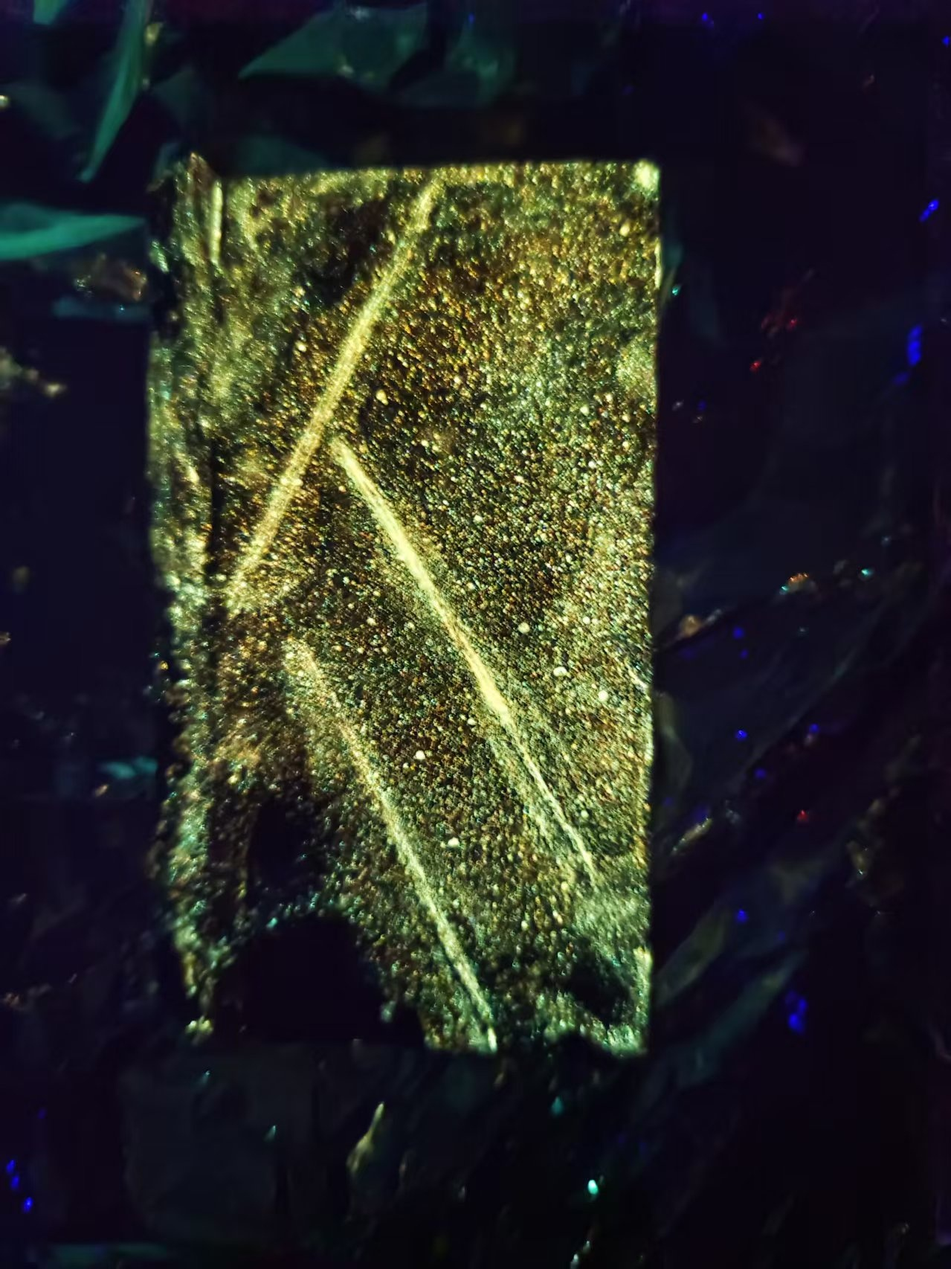Fissure: (305, 412, 607, 897), (209, 175, 432, 622), (284, 649, 509, 1046)
